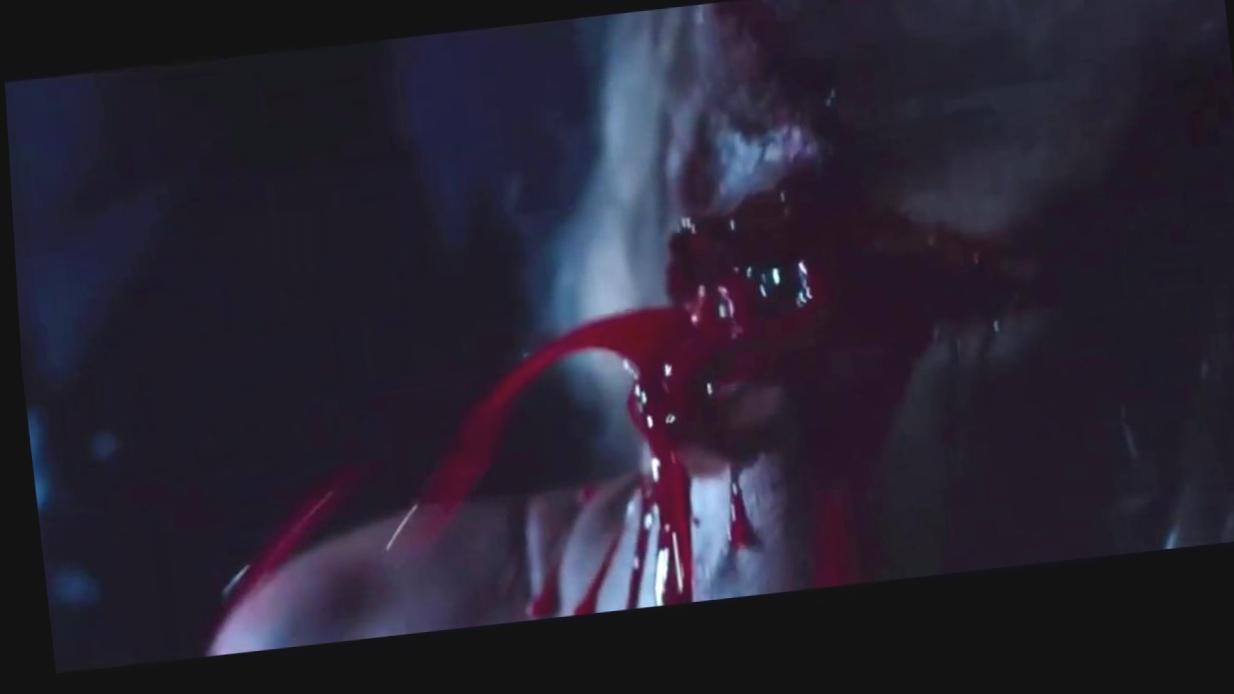Fire: (381, 228, 780, 613), (216, 479, 342, 597), (807, 498, 852, 594), (752, 274, 823, 324), (568, 561, 603, 621), (522, 582, 551, 625)
